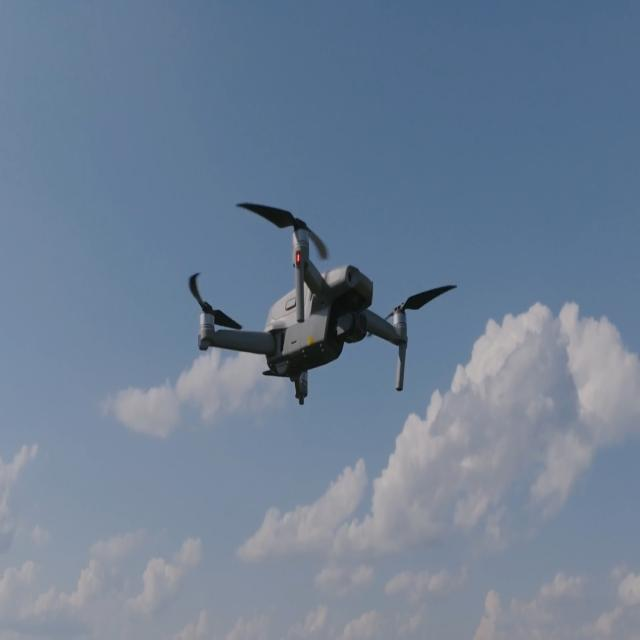Drone: (168, 217, 452, 402)
